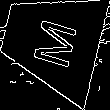M_W: (24, 13, 78, 70)
